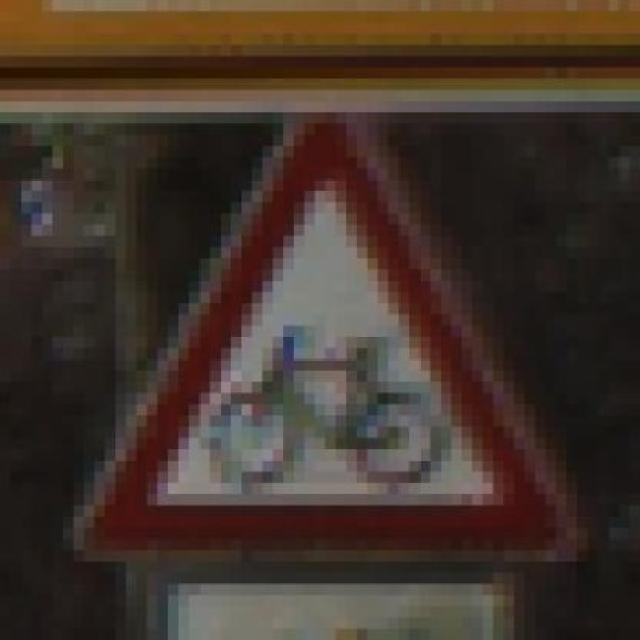CYCLE ROUTE AHEAD WARNING: (55, 119, 590, 558)
